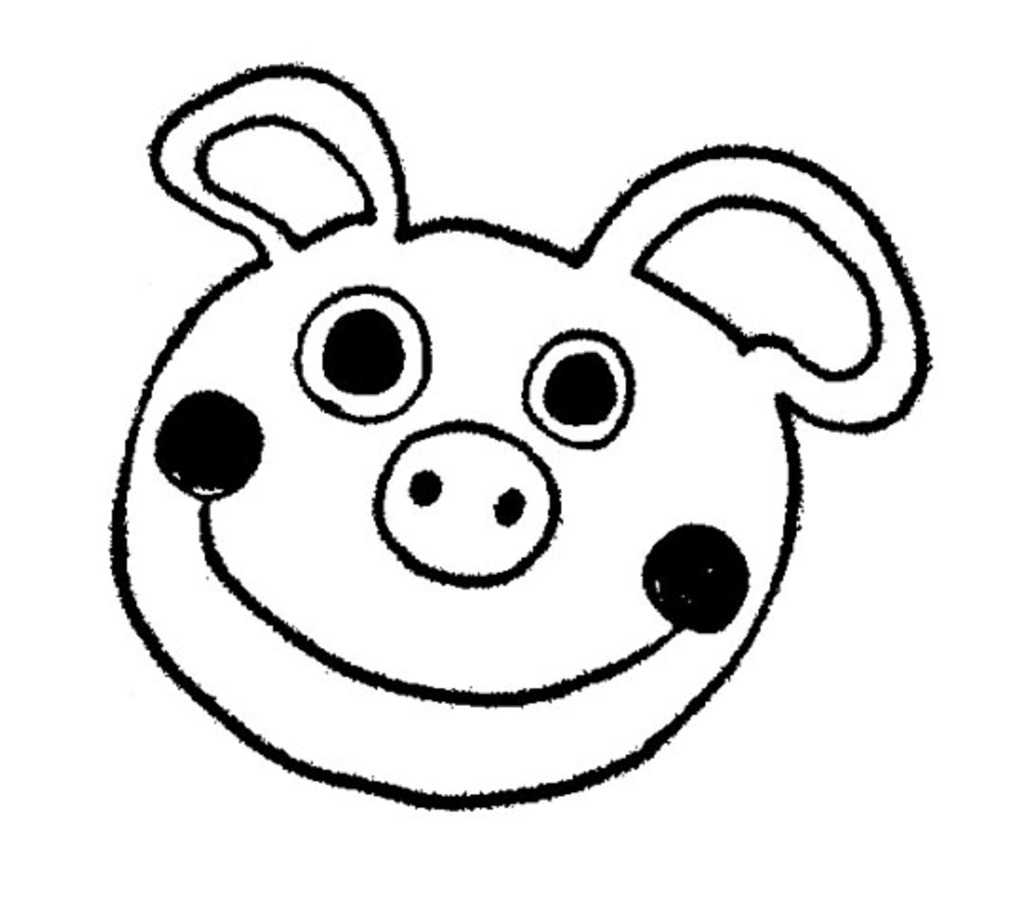Animal: (98, 60, 928, 813)
